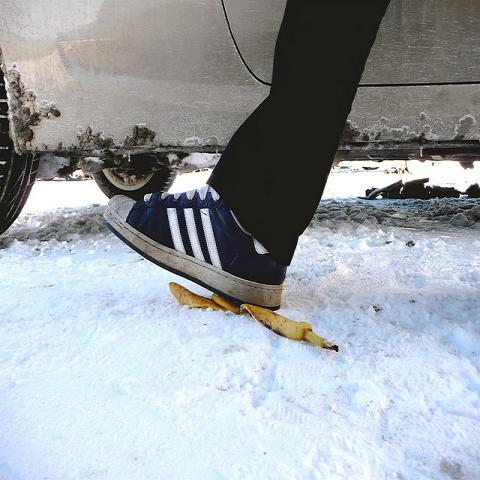car: (0, 0, 479, 235)
